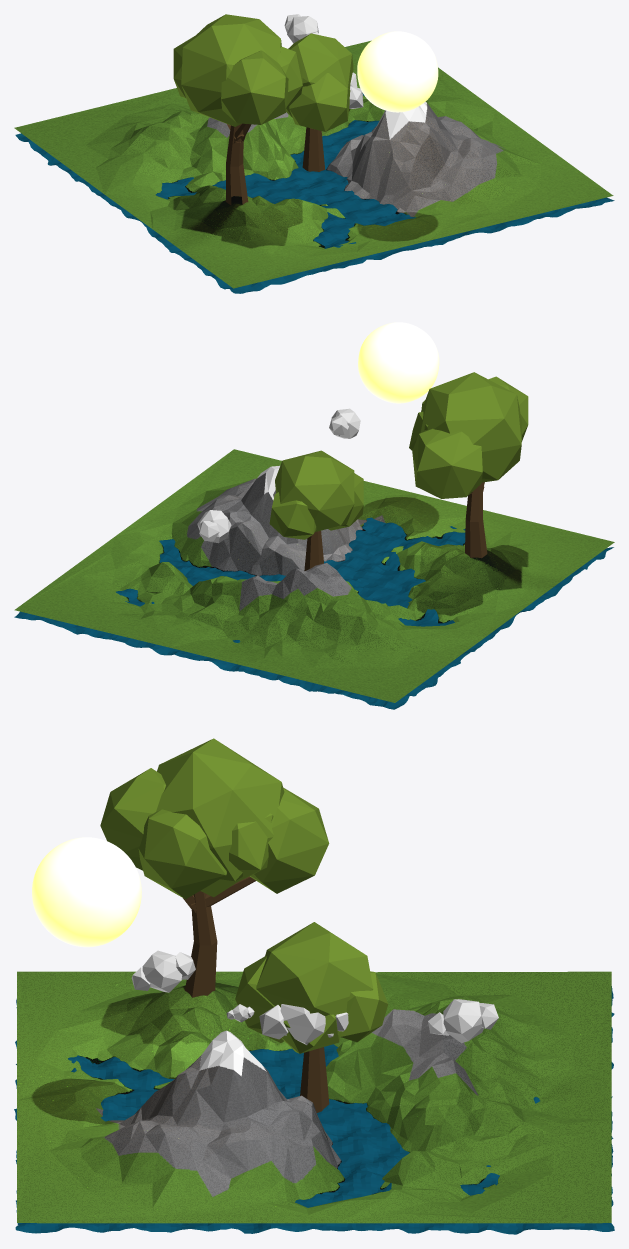
3 renders of one model, top to bottom at view 1: azimuth 30°, elevation 25°; view 2: azimuth 150°, elevation 25°; view 3: azimuth 270°, elevation 25°, orthographic. The views are drawn at different scales.
Parts seen in each view (by area): view 1: Landscape, tree, Landscape_plane, tree_2, Icosphere, cloud.001_Icosphere.003; view 2: Landscape, tree, Landscape_plane, tree_2, Icosphere, cloud.001_Icosphere.003, cloud.001_Icosphere.001; view 3: Landscape, tree, Landscape_plane, tree_2, Icosphere, cloud.001_Icosphere.004, cloud.001_Icosphere.003, cloud.001_Icosphere.001.
Boxes of the visible parts, x1,y1,x2,y2 form: Landscape: (14,40,613,288); tree: (173,14,302,205); Landscape_plane: (15,93,614,293); tree_2: (286,33,353,171); Icosphere: (357,31,438,112); cloud.001_Icosphere.003: (284,14,318,43); Landscape: (14,449,614,702); tree: (409,372,528,558); Landscape_plane: (14,517,613,709); tree_2: (269,450,363,570); Icosphere: (358,322,439,403); cloud.001_Icosphere.003: (197,510,231,543); cloud.001_Icosphere.001: (329,408,360,438); Landscape: (17,971,611,1223); tree: (100,738,329,997); Landscape_plane: (14,986,614,1234); tree_2: (235,922,388,1112); Icosphere: (32,837,141,947); cloud.001_Icosphere.004: (259,1004,348,1044); cloud.001_Icosphere.003: (428,999,498,1043); cloud.001_Icosphere.001: (131,950,195,992).
Bounding box in the file's own units: 10.15 × 5.5 × 10.1.
Materials: 8 (3 with a texture image).
